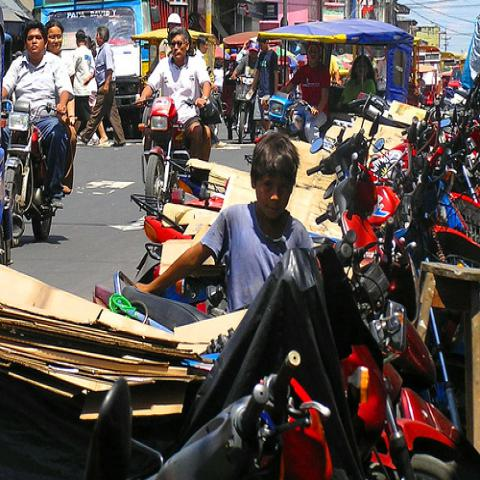motorcycle: (189, 241, 437, 392), (79, 352, 337, 474), (341, 344, 479, 474), (372, 120, 452, 265), (0, 100, 68, 266), (415, 111, 479, 233), (308, 149, 387, 246), (131, 94, 199, 197), (93, 269, 208, 329), (429, 110, 479, 179), (259, 94, 332, 141), (229, 73, 258, 144)
truck: (34, 0, 190, 140)
